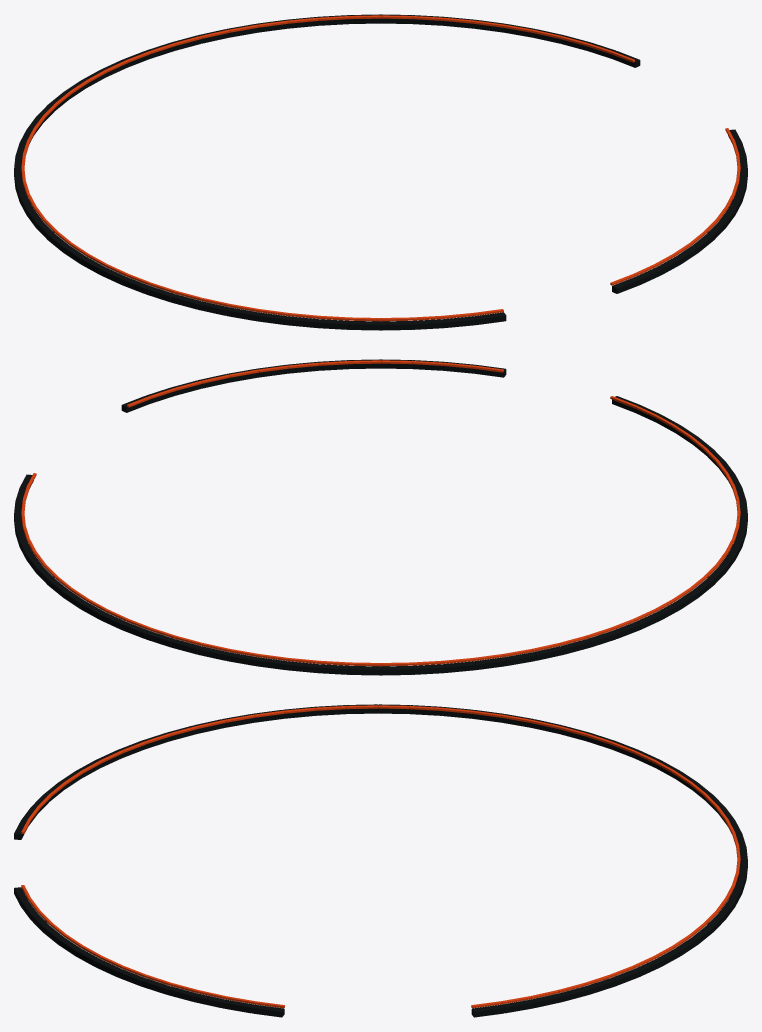
Rendered from SM_MP_Dome_Footing.fbx.
The picture shows the model from 3 angles, top to bottom: view 1: azimuth 30°, elevation 25°; view 2: azimuth 150°, elevation 25°; view 3: azimuth 270°, elevation 25°; orthographic projection.
Parts seen in each view (by area): view 1: SM_MP_Dome_Footing; view 2: SM_MP_Dome_Footing; view 3: SM_MP_Dome_Footing.
Part boxes in pixels (box(x1,y1,x2,y2)): SM_MP_Dome_Footing: box(14, 14, 747, 330); SM_MP_Dome_Footing: box(14, 359, 747, 675); SM_MP_Dome_Footing: box(14, 704, 747, 1017).
Size of the model in its own units: 3767 by 3804 by 48.5.
Materials: 1 (1 with a texture image).
